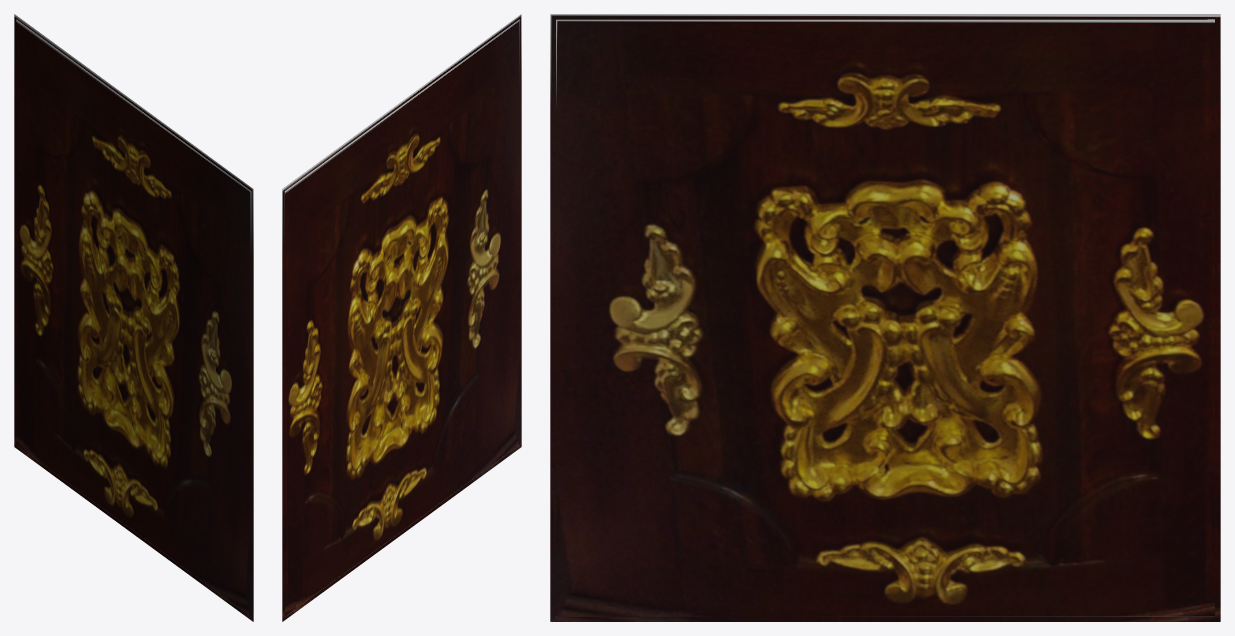
The model's file is 47 - ornament na przedpiersiu konfesjonału.glb.
3 renders of one model, left to right at view 1: azimuth 30°, elevation 25°; view 2: azimuth 150°, elevation 25°; view 3: azimuth 270°, elevation 25°, orthographic. The views are drawn at different scales.
Visible parts, largest first — view 1: Plane; view 2: Plane; view 3: Plane.
Boxes of the visible parts, bbox=[...] form: Plane: bbox=[14, 14, 253, 621]; Plane: bbox=[282, 14, 521, 621]; Plane: bbox=[550, 14, 1220, 621].
Size of the model in its own units: 0.0246 by 12 by 12.
1 material, 1 textured.
